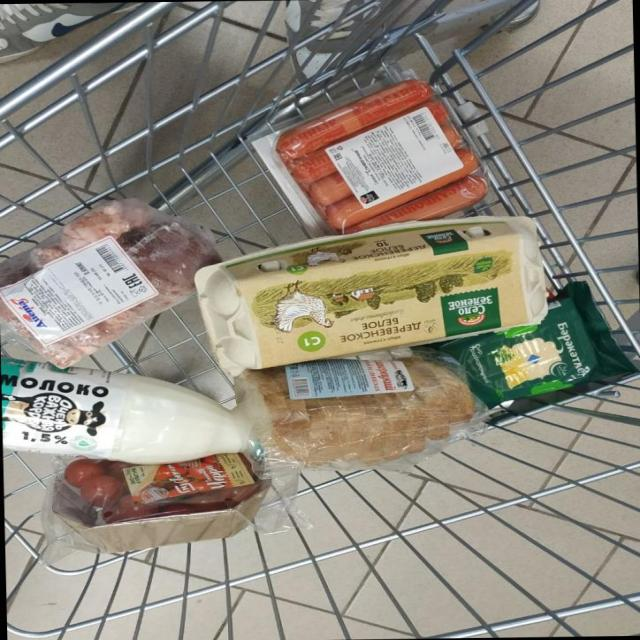Bread: (236, 355, 478, 468)
Cheese: (439, 282, 638, 408)
Eggs: (196, 217, 546, 376)
Meat: (0, 198, 220, 367)
Milk: (1, 358, 248, 464)
Sausages: (253, 79, 488, 234)
Tomatoes: (79, 475, 122, 507), (64, 459, 106, 488), (120, 503, 155, 518)
